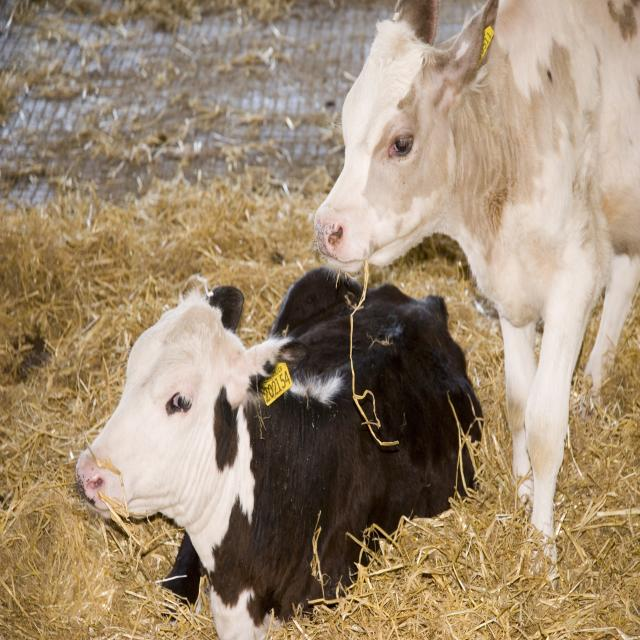cow: (315, 0, 640, 540), (76, 267, 481, 639)
